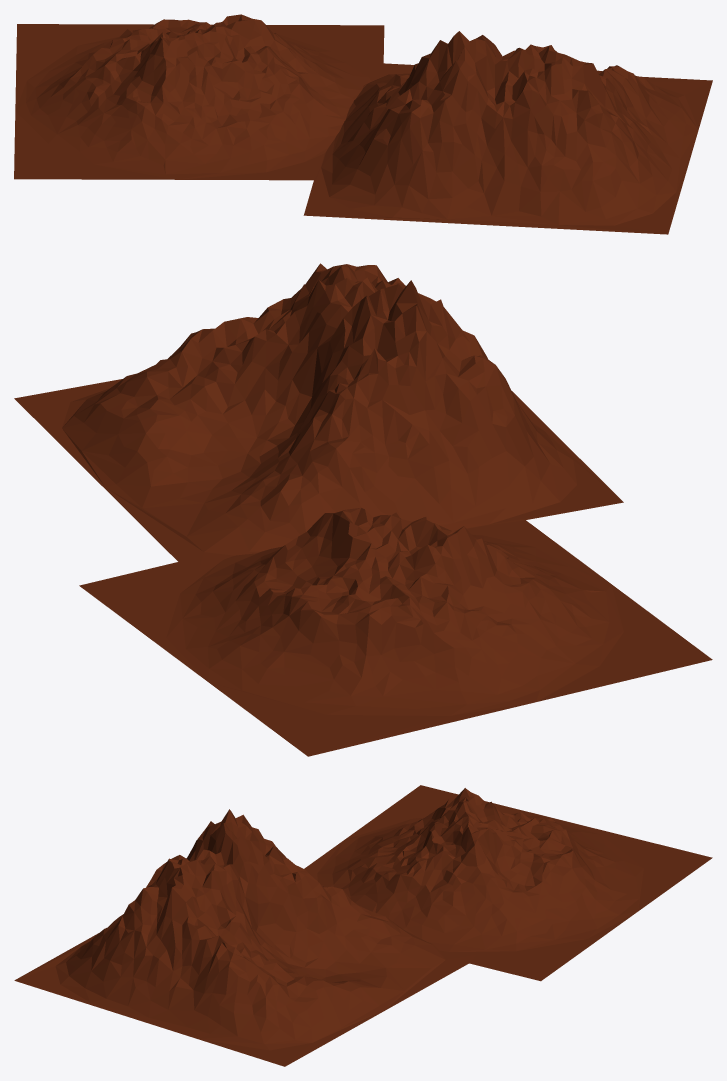
Rendered from envirement.glb.
3 renders of one model, top to bottom at view 1: azimuth 30°, elevation 25°; view 2: azimuth 150°, elevation 25°; view 3: azimuth 270°, elevation 25°, orthographic. The views are drawn at different scales.
Visible parts, largest first — view 1: Landscape; view 2: Landscape; view 3: Landscape.
Part boxes in pixels (box(x1,y1,x2,y2)): Landscape: box(14, 14, 712, 234); Landscape: box(14, 263, 712, 756); Landscape: box(14, 785, 712, 1066).
Size of the model in its own units: 3.93 by 0.8462 by 4.12.
